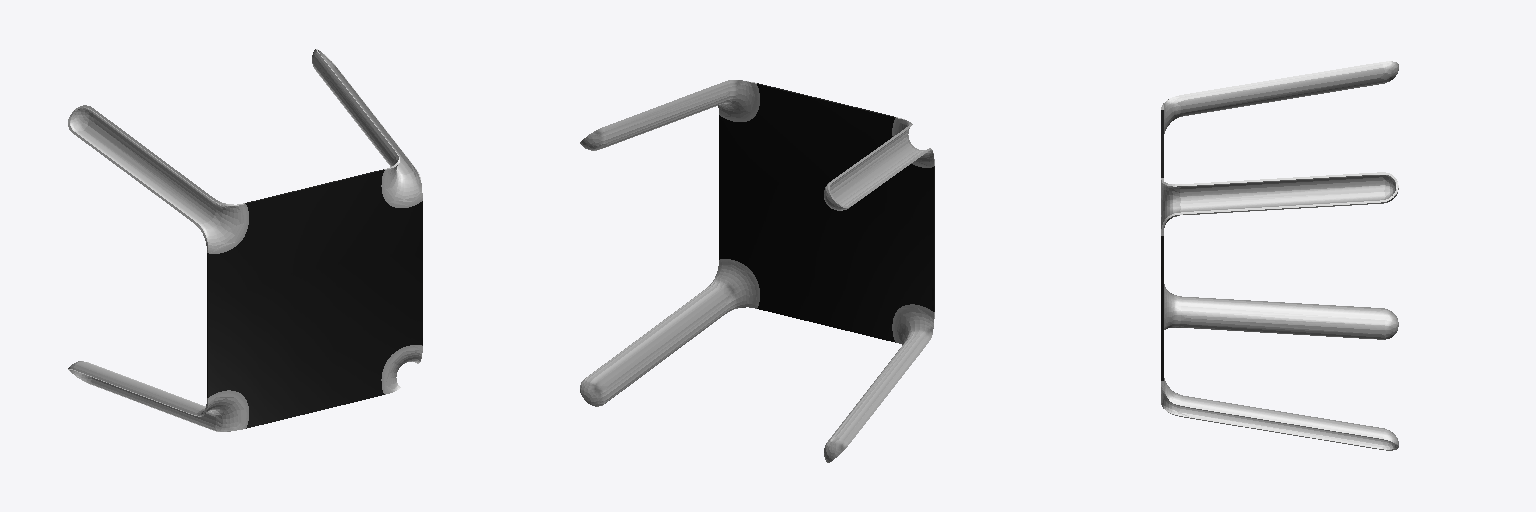
3 renders of one model, left to right at view 1: azimuth 30°, elevation 25°; view 2: azimuth 150°, elevation 25°; view 3: azimuth 270°, elevation 25°, orthographic.
Size of the model in its own units: 0.6823 by 0.6823 by 0.528.
1 materials, 1 textured.